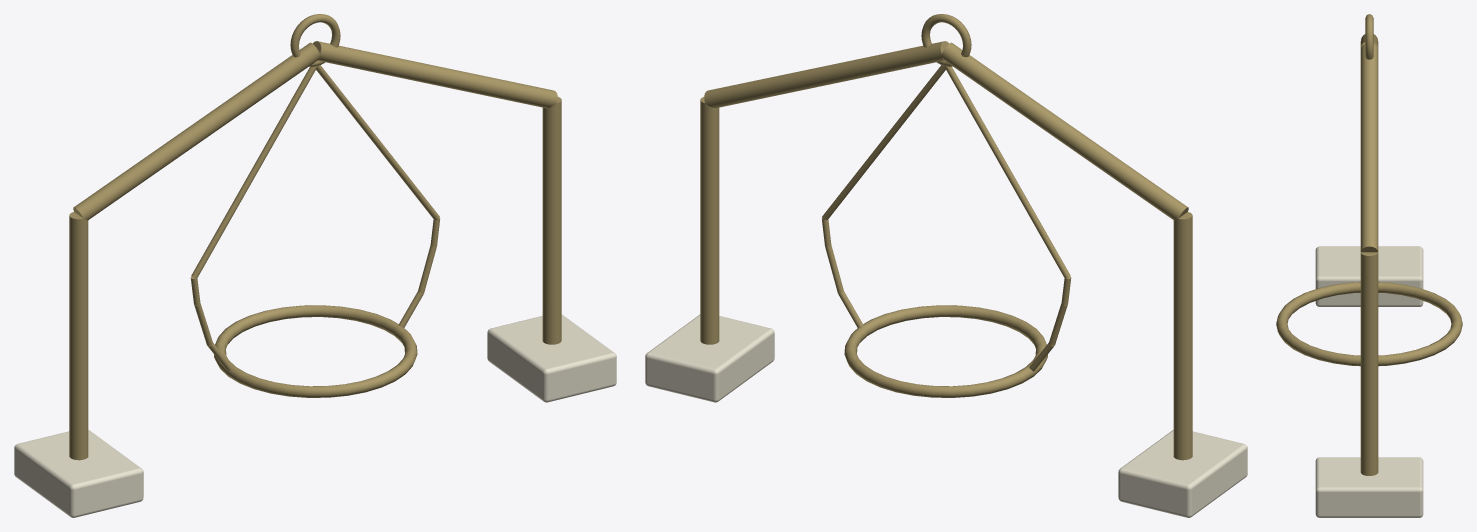
Rendered from water-clock-garden-and-hydraulic-puzzles-bowl-lifting--21caa5a4__31935.glb.
3 views of the same model, side by side, from view 1: azimuth 30°, elevation 25°; view 2: azimuth 150°, elevation 25°; view 3: azimuth 270°, elevation 25° (orthographic). The views are drawn at different scales.
Visible parts, largest first — view 1: bowl-lifting-cradle; view 2: bowl-lifting-cradle; view 3: bowl-lifting-cradle.
Part boxes in pixels (x1=…): bowl-lifting-cradle: x1=14, y1=14, x2=616, y2=517; bowl-lifting-cradle: x1=645, y1=14, x2=1247, y2=517; bowl-lifting-cradle: x1=1276, y1=14, x2=1462, y2=517.
Bounding box in the file's own units: 1.71 × 1.25 × 0.554.
